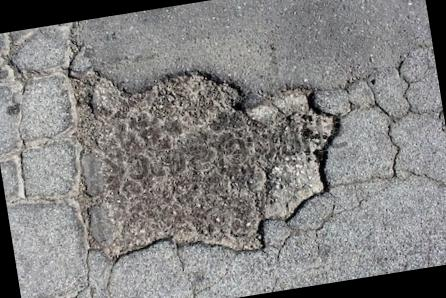pothole: (21, 0, 379, 298)
